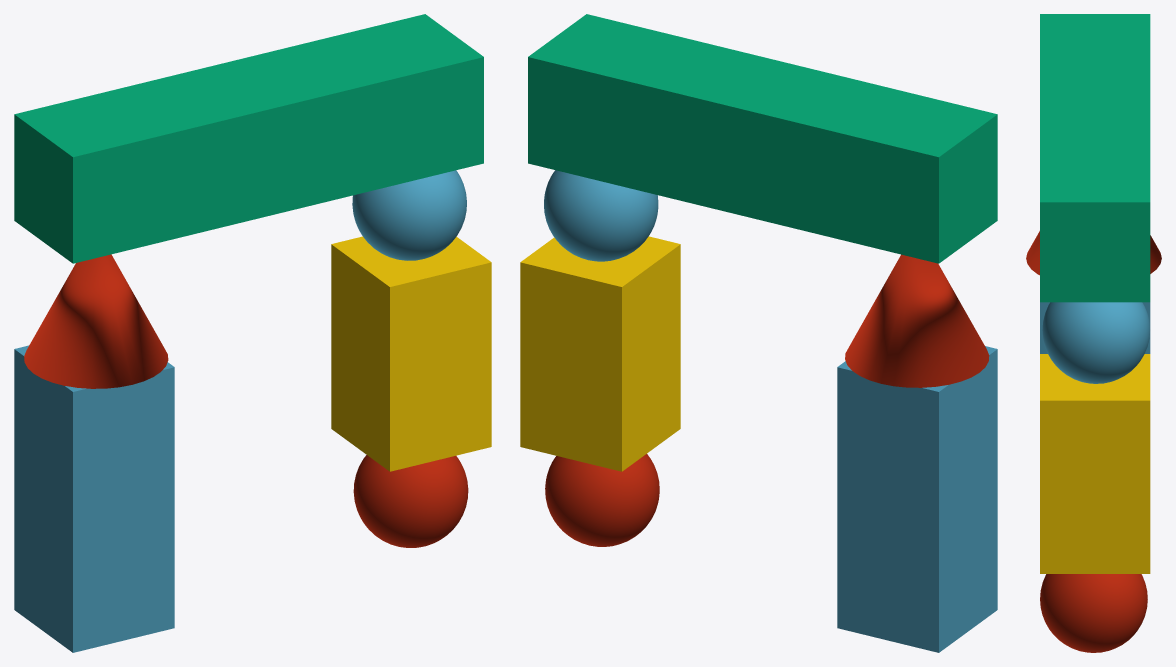
Rendered from gate_3.glb.
3 views of the same model, side by side, from view 1: azimuth 30°, elevation 25°; view 2: azimuth 150°, elevation 25°; view 3: azimuth 270°, elevation 25° (orthographic). The views are drawn at different scales.
Parts seen in each view (by area): view 1: Cube.001; view 2: Cube.001; view 3: Cube.001.
Part boxes in pixels (x1,y1,x2,y2): Cube.001: (14, 14, 491, 652); Cube.001: (520, 14, 997, 652); Cube.001: (1026, 14, 1161, 652).
Size of the model in its own units: 10.82 by 11.94 by 3.16.
